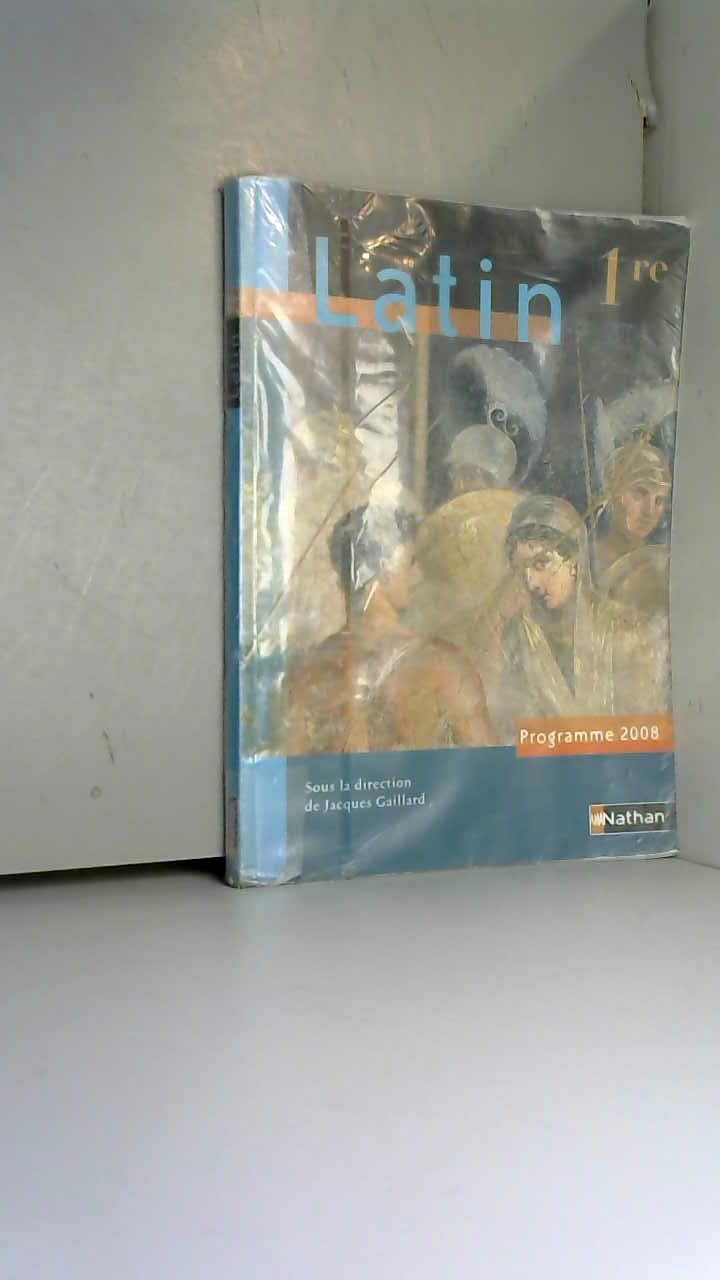book: (190, 150, 718, 914)
